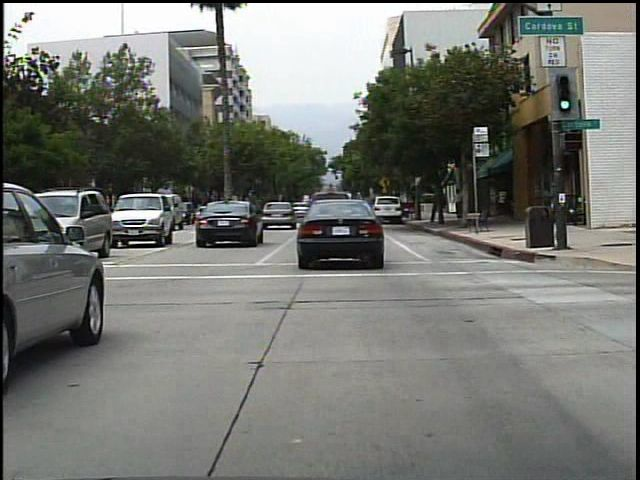person: (449, 185, 470, 225)
